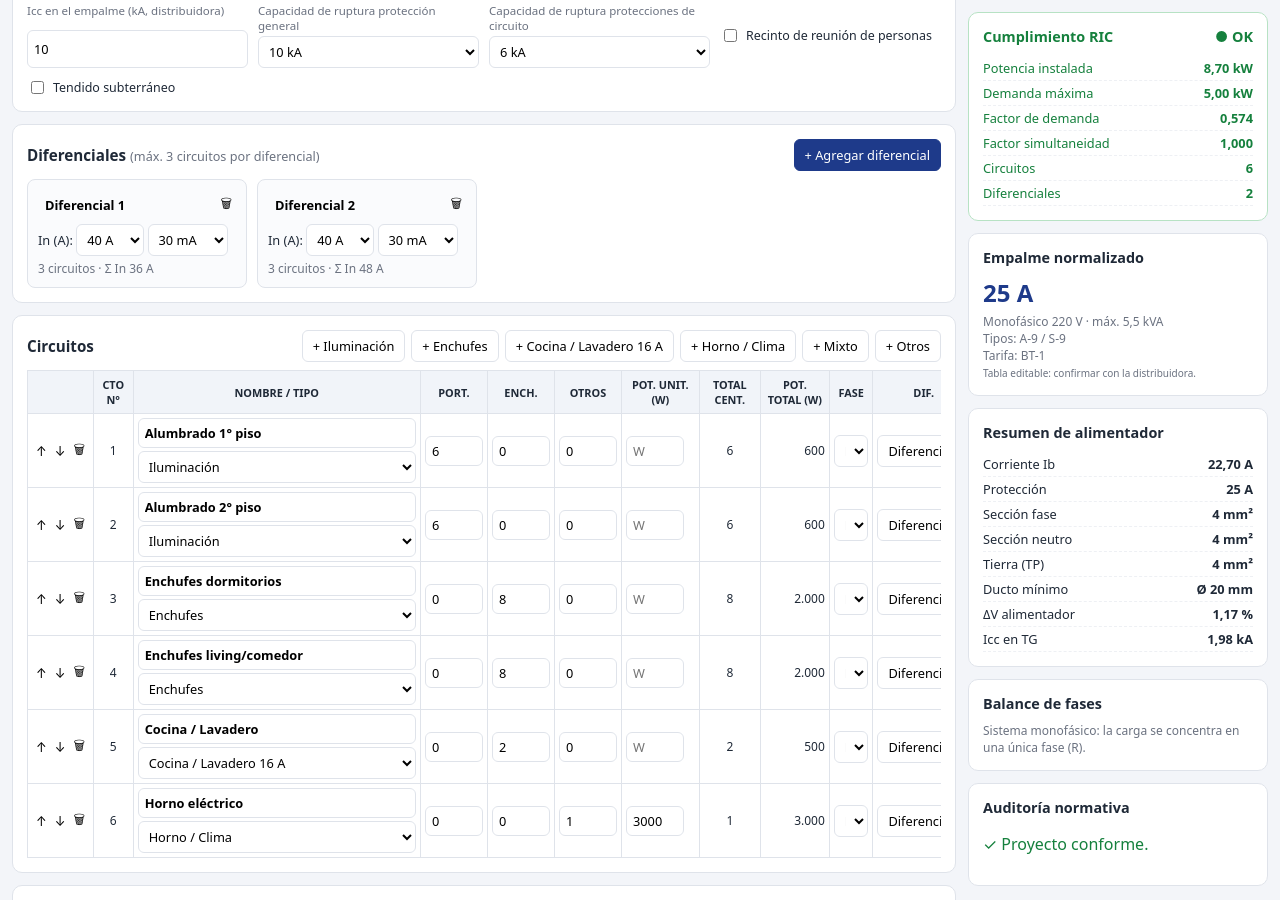
Scenario: App › editar portalámparas recalcula la potencia instalada
The image size is (1280, 900).
(page scrolled)
Replace the text in the number field named "Portalámparas cto 1" with "10" at (454, 450), box [425,436,483,466]
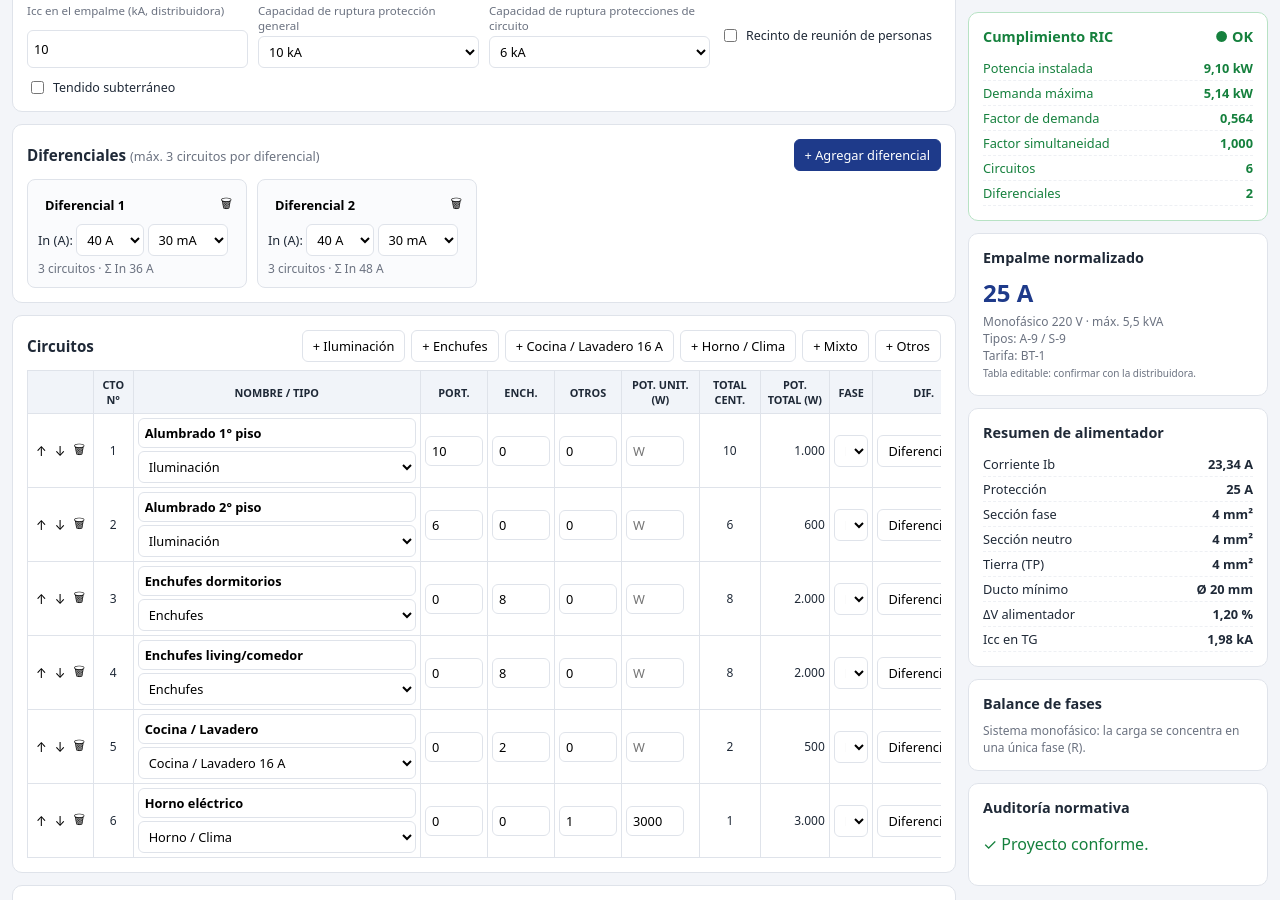
Now the element with test id "panel-resumen" shows "9,10 kW", box [1204,59,1253,77]
